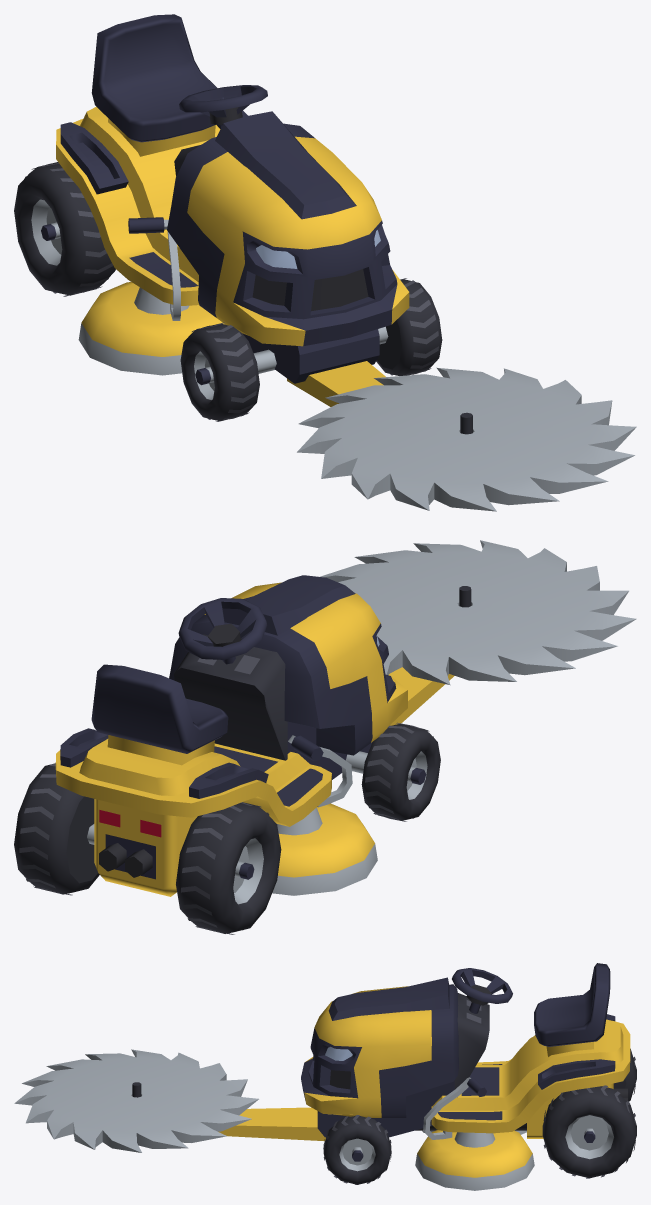
Rendered from LawnMower_Saw.fbx.
3 renders of one model, top to bottom at view 1: azimuth 30°, elevation 25°; view 2: azimuth 150°, elevation 25°; view 3: azimuth 270°, elevation 25°, orthographic. The views are drawn at different scales.
Visible parts, largest first — view 1: 02_Base, Saw, 02_whell_back_right, 02_whell_front_right, 02_whell_front_left, Platform; view 2: 02_Base, Saw, 02_whell_back_right, 02_whell_back_left, 02_whell_front_right, Platform; view 3: 02_Base, Saw, 02_whell_back_left, 02_whell_front_left, Platform, 02_whell_back_right.
Boxes of the visible parts, x1=… form: 02_Base: x1=56, y1=14, x2=409, y2=383; Saw: x1=297, y1=367, x2=636, y2=511; 02_whell_back_right: x1=14, y1=162, x2=115, y2=296; 02_whell_front_right: x1=180, y1=322, x2=259, y2=421; 02_whell_front_left: x1=376, y1=278, x2=442, y2=375; Platform: x1=287, y1=361, x2=472, y2=434; 02_Base: x1=55, y1=575, x2=407, y2=896; Saw: x1=320, y1=540, x2=636, y2=685; 02_whell_back_right: x1=176, y1=802, x2=281, y2=934; 02_whell_back_left: x1=14, y1=763, x2=99, y2=895; 02_whell_front_right: x1=361, y1=722, x2=440, y2=821; Platform: x1=388, y1=586, x2=471, y2=725; 02_Base: x1=301, y1=963, x2=630, y2=1190; Saw: x1=14, y1=1049, x2=258, y2=1152; 02_whell_back_left: x1=542, y1=1085, x2=636, y2=1178; 02_whell_front_left: x1=323, y1=1115, x2=391, y2=1184; Platform: x1=132, y1=1082, x2=325, y2=1141; 02_whell_back_right: x1=613, y1=1048, x2=636, y2=1101.
Size of the model in its own units: 18.86 by 47.84 by 14.85.
